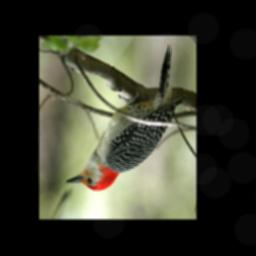Woodpecker: (66, 44, 184, 192)
